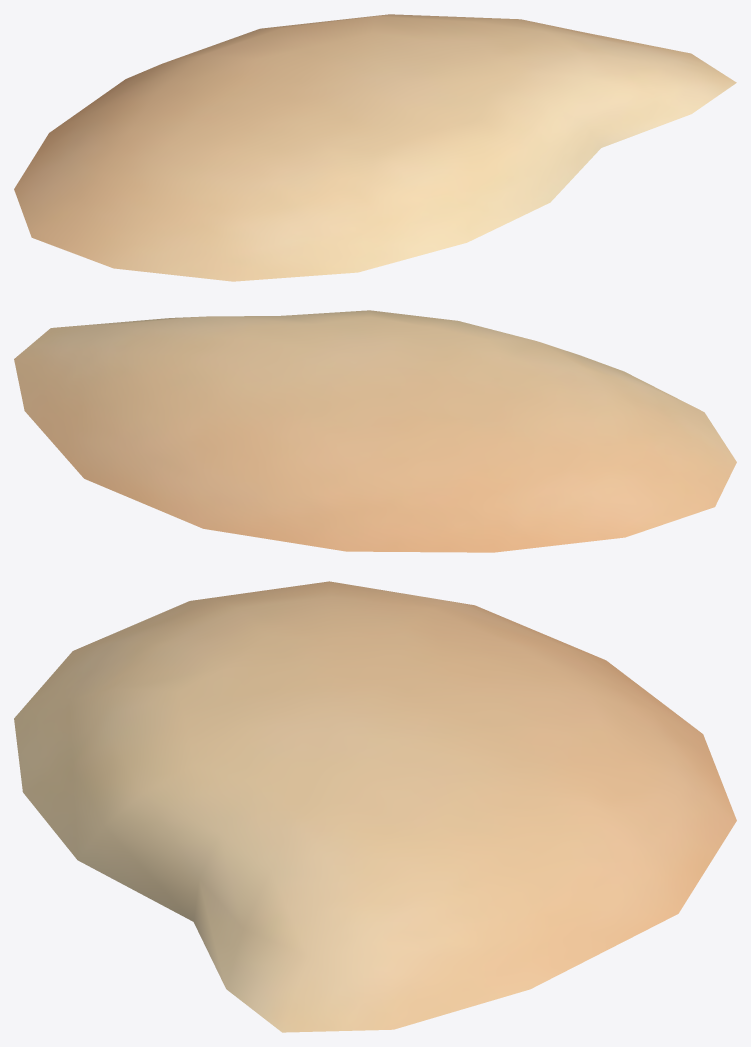
File: 冰淇淋-道具-冰淇淋（大）_4.FBX
3 renders of one model, top to bottom at view 1: azimuth 30°, elevation 25°; view 2: azimuth 150°, elevation 25°; view 3: azimuth 270°, elevation 25°, orthographic. The views are drawn at different scales.
Visible parts, largest first — view 1: 冰淇淋-道具-冰淇淋（大）_4; view 2: 冰淇淋-道具-冰淇淋（大）_4; view 3: 冰淇淋-道具-冰淇淋（大）_4.
Part boxes in pixels (x1,y1,x2,y2): 冰淇淋-道具-冰淇淋（大）_4: (14,14,736,281); 冰淇淋-道具-冰淇淋（大）_4: (14,310,736,552); 冰淇淋-道具-冰淇淋（大）_4: (14,581,736,1032).
Size of the model in its own units: 1.91 by 0.178 by 1.29.
